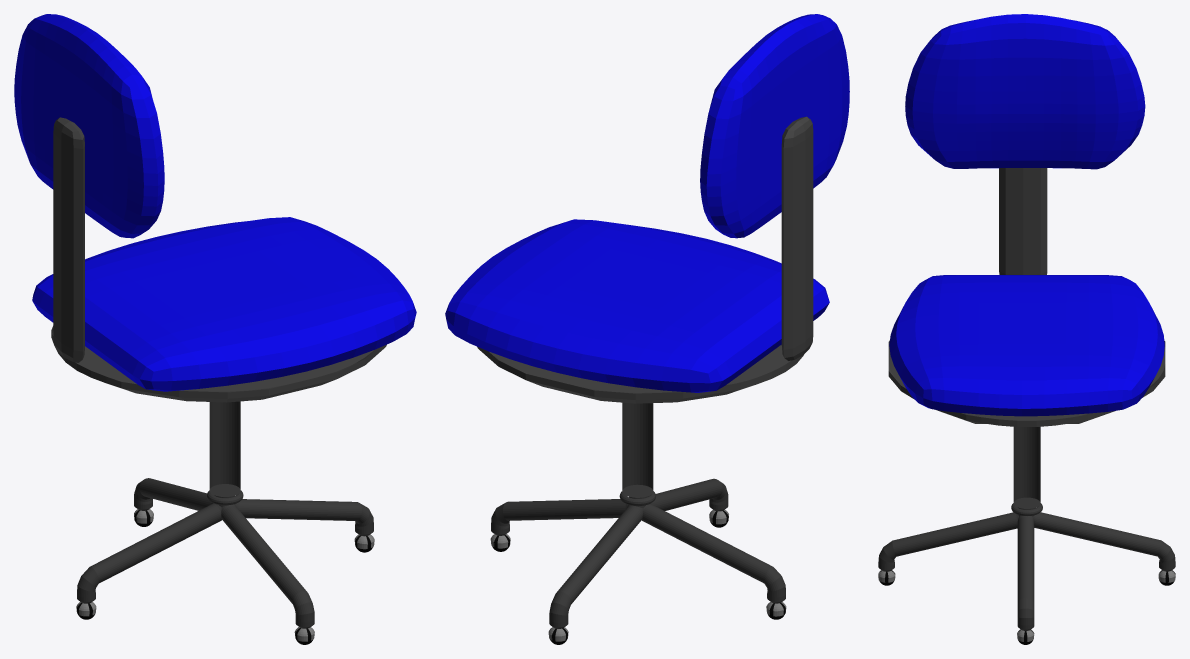
The model's file is chair.fbx.
The picture shows the model from 3 angles, left to right: view 1: azimuth 30°, elevation 25°; view 2: azimuth 150°, elevation 25°; view 3: azimuth 270°, elevation 25°; orthographic projection. The views are drawn at different scales.
Visible parts, largest first — view 1: 立方体.001, 立方体.003; view 2: 立方体.001, 立方体.003; view 3: 立方体.001, 立方体.003.
Boxes of the visible parts, x1,y1,x2,y2 form: 立方体.001: (14, 14, 416, 391); 立方体.003: (51, 326, 386, 644); 立方体.001: (445, 14, 849, 392); 立方体.003: (477, 346, 803, 644); 立方体.001: (888, 14, 1165, 420); 立方体.003: (878, 340, 1175, 644).
Bounding box in the file's own units: 105 × 184 × 96.72.
